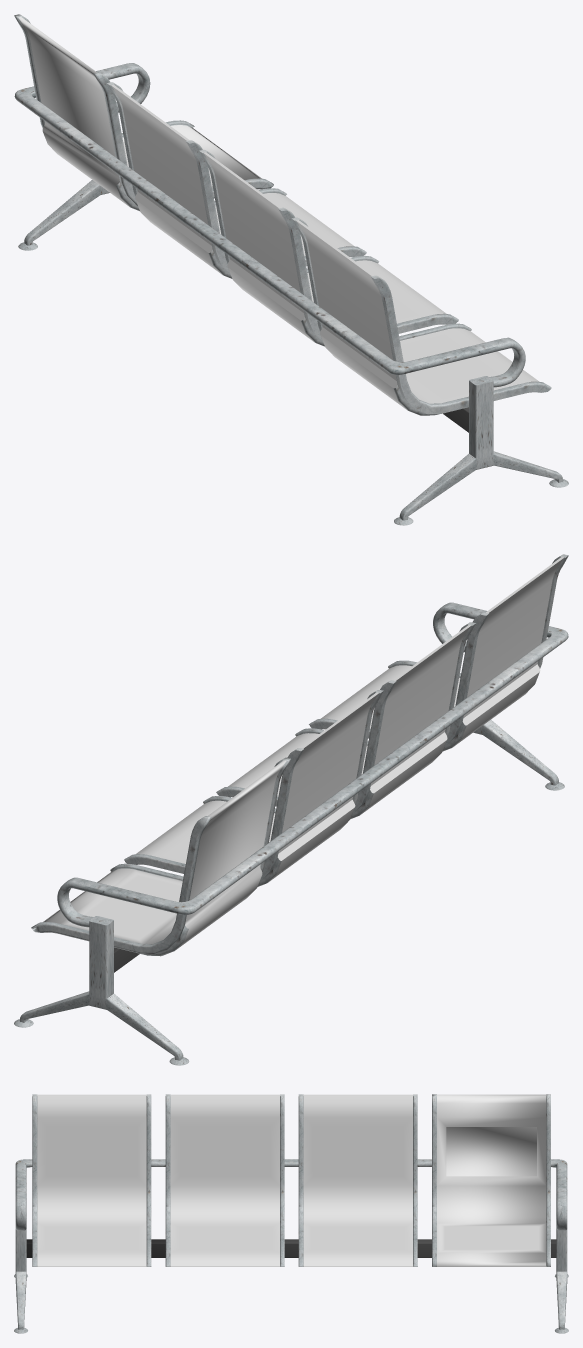
Rendered from WaitingRoom_Bench.fbx.
The picture shows the model from 3 angles, top to bottom: view 1: azimuth 30°, elevation 25°; view 2: azimuth 150°, elevation 25°; view 3: azimuth 270°, elevation 25°; orthographic projection. The views are drawn at different scales.
Visible parts, largest first — view 1: Decoration_WaitingChair_Seat_1.002, Decoration_WaitingChair_Seat_2.002, Decoration_WaitingChair_Seat_4.002, Decoration_WaitingChair_Seat_3.002, Decoration_WaitingChair_Guard_Right.002, Decoration_WaitingChair_Leg_Right.002, Decoration_WaitingChair_Guard_Left.002, Decoration_WaitingChair_Leg_Left.002; view 2: Decoration_WaitingChair_Seat_4.002, Decoration_WaitingChair_Seat_3.002, Decoration_WaitingChair_Seat_1.002, Decoration_WaitingChair_Seat_2.002, Decoration_WaitingChair_Guard_Left.002, Decoration_WaitingChair_Leg_Left.002, Decoration_WaitingChair_Guard_Right.002, Decoration_WaitingChair_Leg_Right.002; view 3: Decoration_WaitingChair_Seat_1.002, Decoration_WaitingChair_Seat_2.002, Decoration_WaitingChair_Seat_3.002, Decoration_WaitingChair_Seat_4.002, Decoration_WaitingChair_Leg_Left.002, Decoration_WaitingChair_Leg_Right.002, Decoration_WaitingChair_Beam.002, Decoration_WaitingChair_Guard_Right.002, Decoration_WaitingChair_Guard_Left.002.
Boxes of the visible parts, x1,y1,x2,y2 form: Decoration_WaitingChair_Seat_1.002: (291, 217, 551, 415); Decoration_WaitingChair_Seat_2.002: (199, 149, 458, 346); Decoration_WaitingChair_Seat_4.002: (14, 14, 273, 211); Decoration_WaitingChair_Seat_3.002: (107, 82, 366, 278); Decoration_WaitingChair_Guard_Right.002: (202, 228, 525, 387); Decoration_WaitingChair_Leg_Right.002: (394, 376, 568, 525); Decoration_WaitingChair_Guard_Left.002: (14, 63, 211, 236); Decoration_WaitingChair_Leg_Left.002: (18, 105, 118, 250); Decoration_WaitingChair_Seat_4.002: (31, 757, 290, 956); Decoration_WaitingChair_Seat_3.002: (124, 690, 383, 886); Decoration_WaitingChair_Seat_1.002: (309, 554, 568, 751); Decoration_WaitingChair_Seat_2.002: (216, 622, 475, 819); Decoration_WaitingChair_Guard_Left.002: (57, 769, 381, 927); Decoration_WaitingChair_Leg_Left.002: (14, 916, 189, 1065); Decoration_WaitingChair_Guard_Right.002: (370, 602, 568, 775); Decoration_WaitingChair_Leg_Right.002: (465, 645, 564, 790); Decoration_WaitingChair_Seat_1.002: (32, 1094, 151, 1266); Decoration_WaitingChair_Seat_2.002: (165, 1094, 284, 1266); Decoration_WaitingChair_Seat_3.002: (298, 1094, 417, 1266); Decoration_WaitingChair_Seat_4.002: (432, 1094, 550, 1266); Decoration_WaitingChair_Leg_Left.002: (555, 1229, 568, 1333); Decoration_WaitingChair_Leg_Right.002: (14, 1229, 27, 1333); Decoration_WaitingChair_Beam.002: (26, 1239, 556, 1257); Decoration_WaitingChair_Guard_Right.002: (15, 1159, 292, 1230); Decoration_WaitingChair_Guard_Left.002: (292, 1159, 567, 1230).
Size of the model in its own units: 65.46 by 235 by 81.49.
